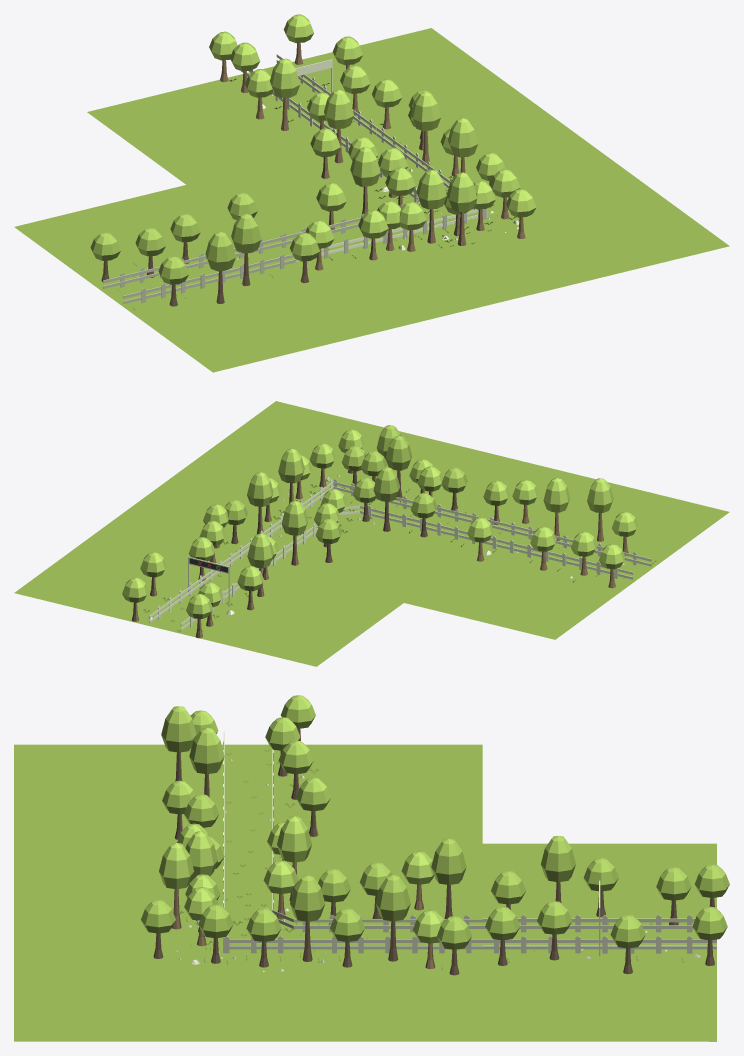
The model's file is corner.obj.
The picture shows the model from 3 angles, top to bottom: view 1: azimuth 30°, elevation 25°; view 2: azimuth 150°, elevation 25°; view 3: azimuth 270°, elevation 25°; orthographic projection. The views are drawn at different scales.
Parts seen in each view (by area): view 1: Cube_ground; view 2: Cube_ground; view 3: Cube_ground.
Part boxes in pixels (x1=…): Cube_ground: x1=14, y1=14, x2=729, y2=372; Cube_ground: x1=14, y1=401, x2=729, y2=666; Cube_ground: x1=14, y1=695, x2=729, y2=1041.
Size of the model in its own units: 261 by 36.16 by 266.
